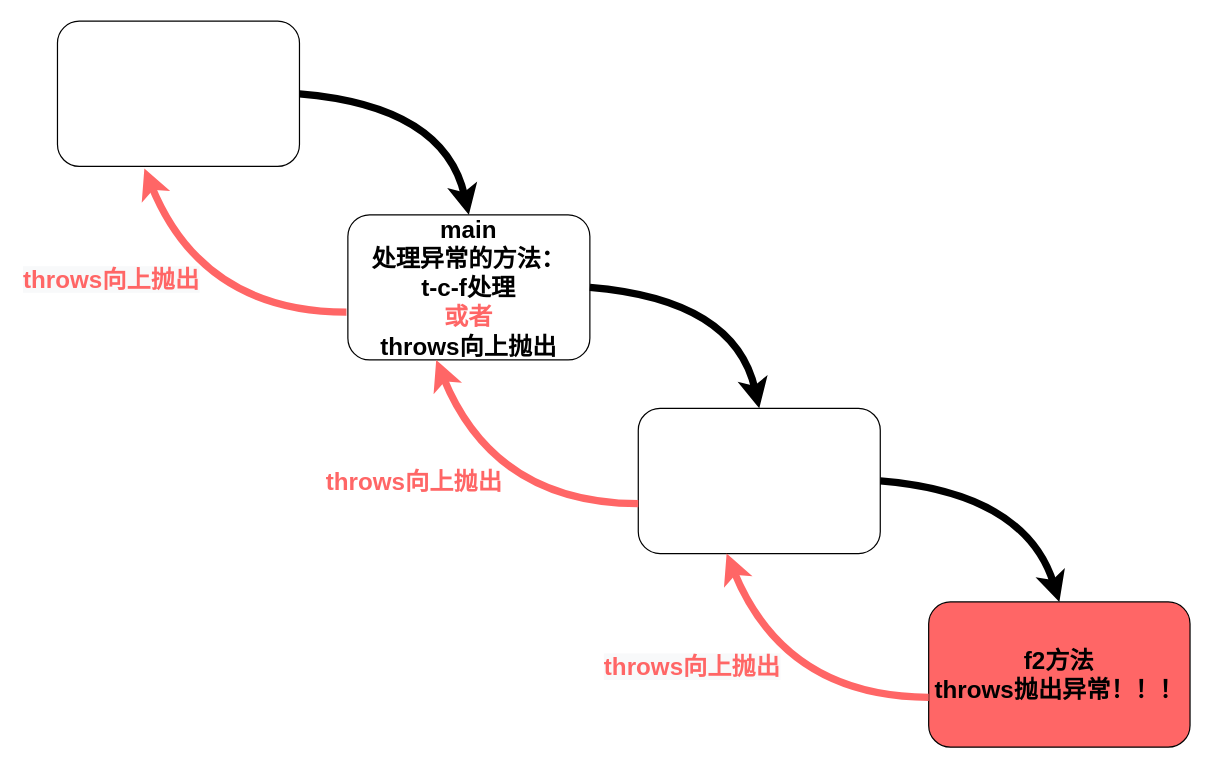
Image size: 1211x768. Some labels were removed from this diagram. Here are the shapes that lost their labels. From the top down, the centre of each, then its label:
point 177,93: JVM 处理异常的方法： 输出异常信息 然后退出程序
point 758,480: f1方法 处理异常的方法： t-c-f处理 或者 throws向上抛出
